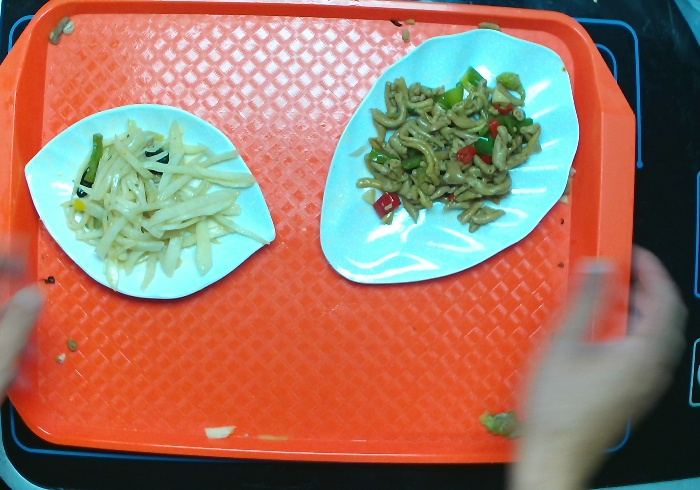RJxy-Bai_Ye_Pan: (317, 26, 581, 287)
RJxy-Da_Du_Pan: (24, 100, 278, 301)
